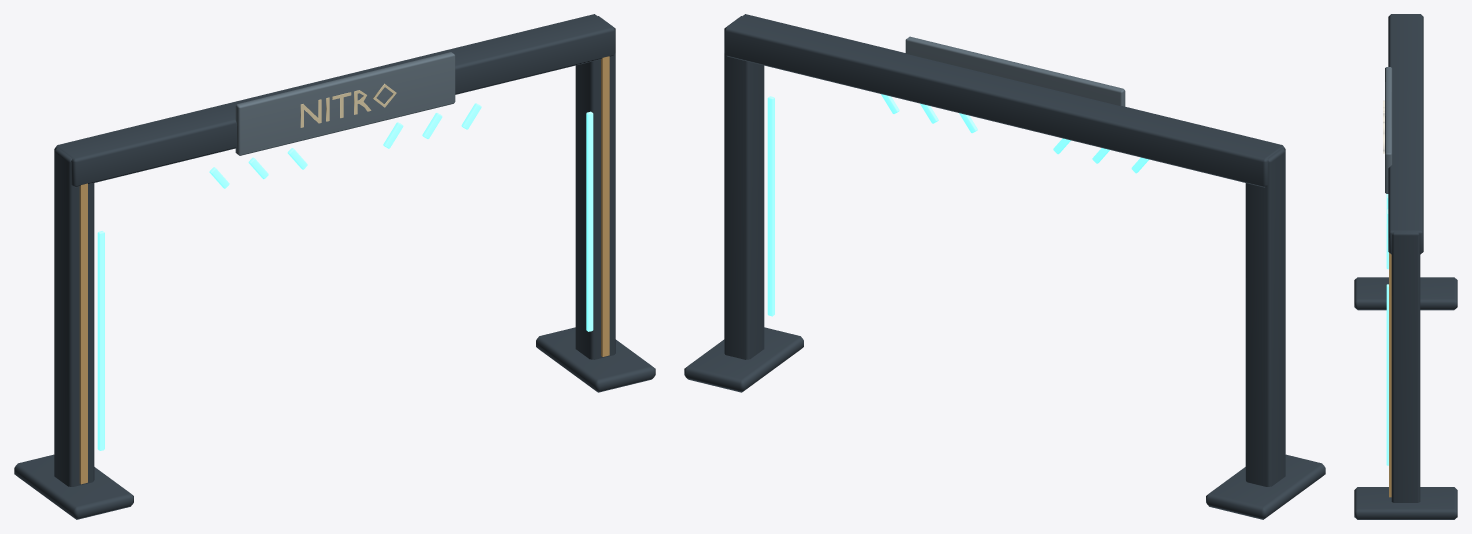
Rendered from nyanisyarud-camera-nitro-gantry.glb.
The picture shows the model from 3 angles, left to right: view 1: azimuth 30°, elevation 25°; view 2: azimuth 150°, elevation 25°; view 3: azimuth 270°, elevation 25°; orthographic projection. The views are drawn at different scales.
Visible parts, largest first — view 1: nitro-gantry_case, NitroSign, nitro-gantry_brass, nitro-gantry_cyan, Label_NITRO; view 2: nitro-gantry_case, NitroSign, nitro-gantry_cyan; view 3: nitro-gantry_case, NitroSign, nitro-gantry_cyan, nitro-gantry_brass.
Boxes of the visible parts, <box> form: nitro-gantry_case: <box>14,14,655,519</box>; NitroSign: <box>235,52,455,155</box>; nitro-gantry_brass: <box>79,56,609,484</box>; nitro-gantry_cyan: <box>97,103,593,450</box>; Label_NITRO: <box>300,83,396,127</box>; nitro-gantry_case: <box>684,14,1325,519</box>; NitroSign: <box>905,36,1125,106</box>; nitro-gantry_cyan: <box>767,94,1149,316</box>; nitro-gantry_case: <box>1354,14,1457,519</box>; NitroSign: <box>1385,67,1392,193</box>; nitro-gantry_cyan: <box>1386,194,1388,465</box>; nitro-gantry_brass: <box>1389,253,1391,497</box>.
Bounding box in the file's own units: 13.4 × 7.85 × 2.5.
